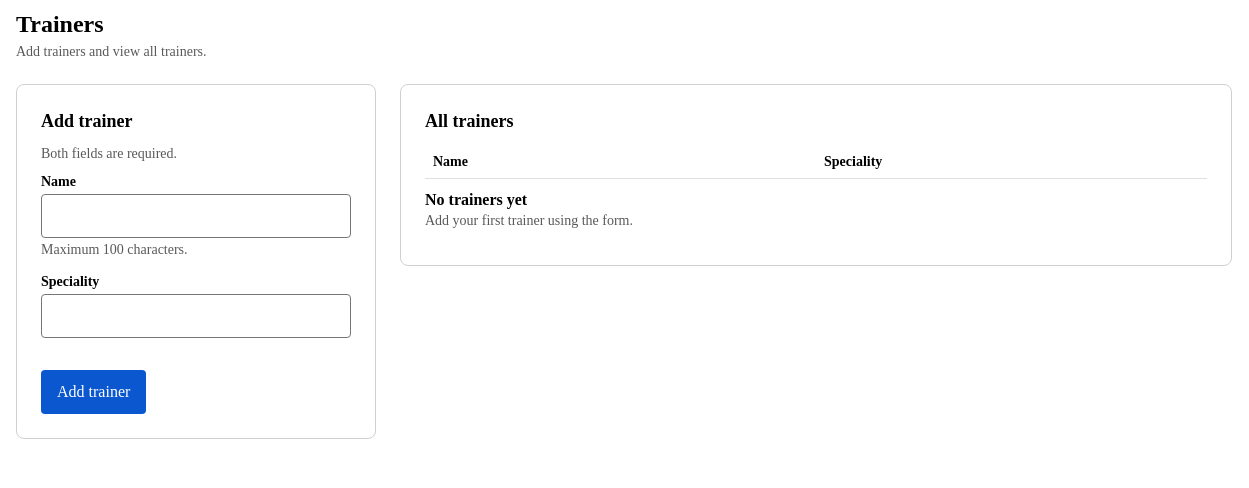
Test: Trainers page (FIT-941 T2) › Trainers / Save Error (AC-014, AC-015, AC-016) › AC-014: a thrown request is treated as unconfirmed, not a crash
Type "Sofia García" into the field labelled "Name" at (196, 216), box [41, 194, 351, 238]
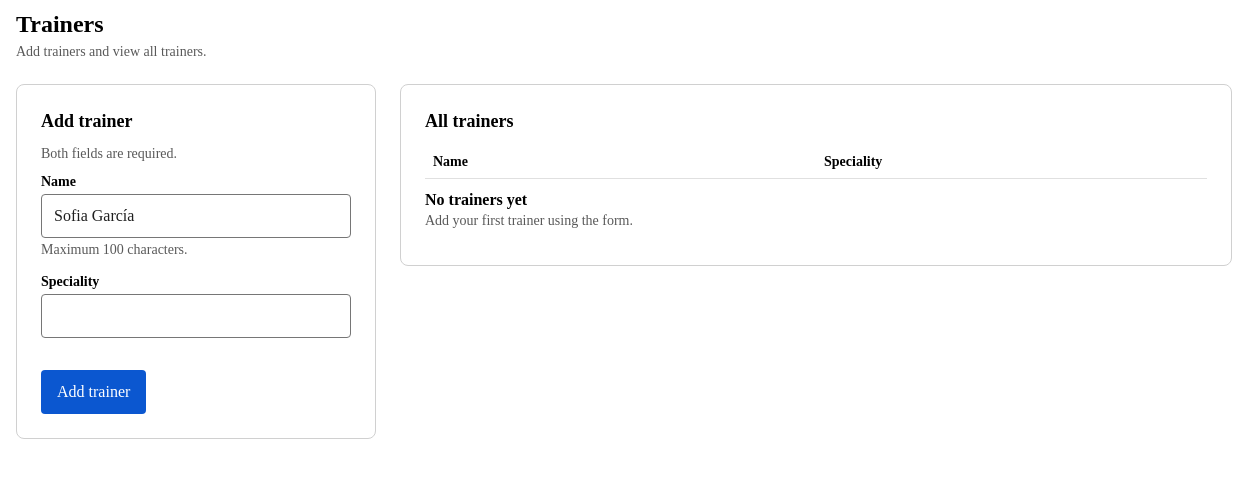
Type "Pilates" into the field labelled "Speciality" at (196, 316), box [41, 294, 351, 338]
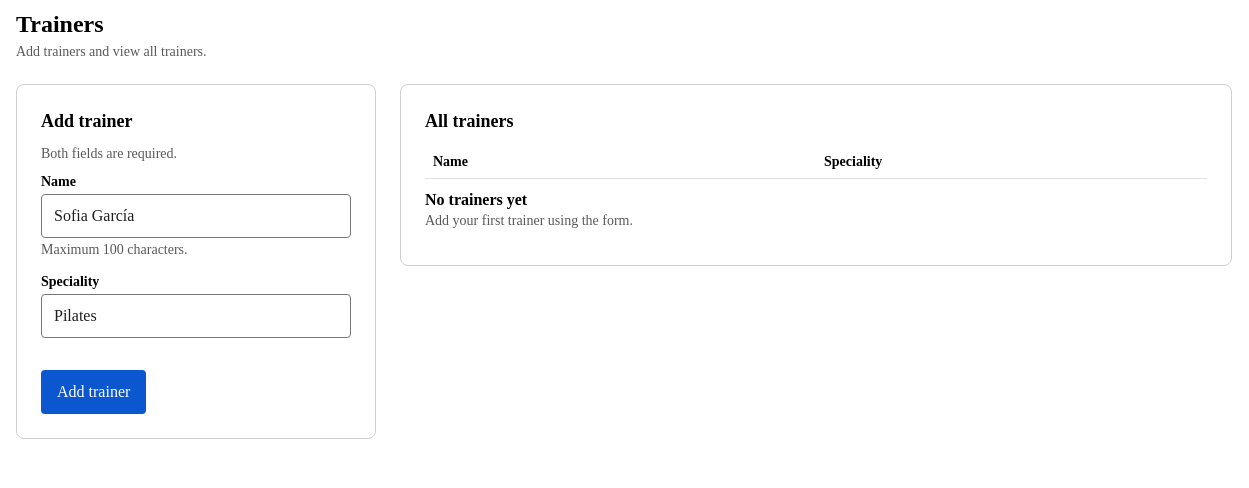
Click the submit button at (94, 392), box [41, 370, 146, 414]
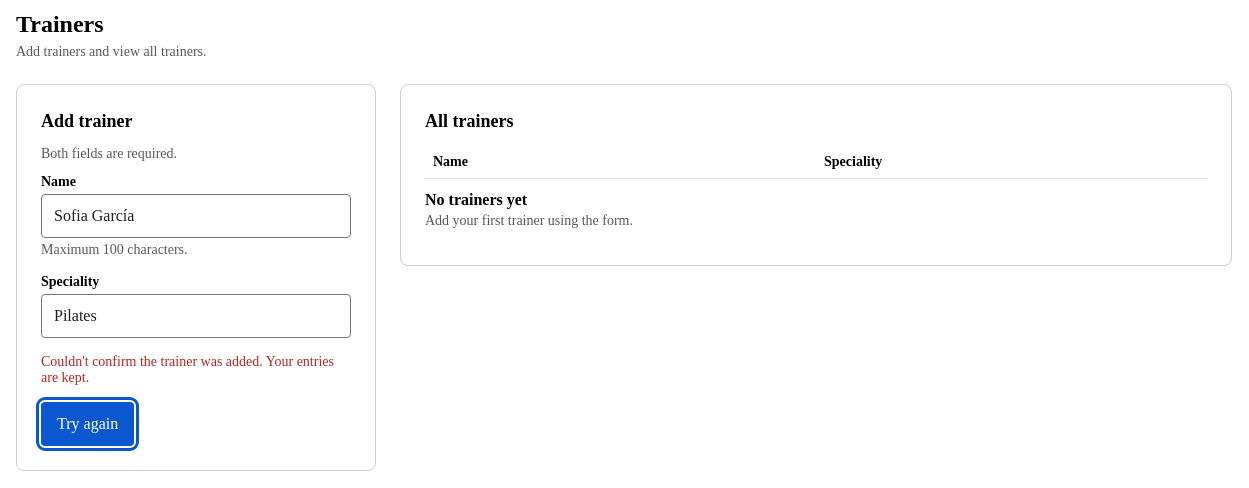
Now the text "Couldn't confirm the trainer was added. Your entries are kept." is shown, box [41, 354, 351, 386]
